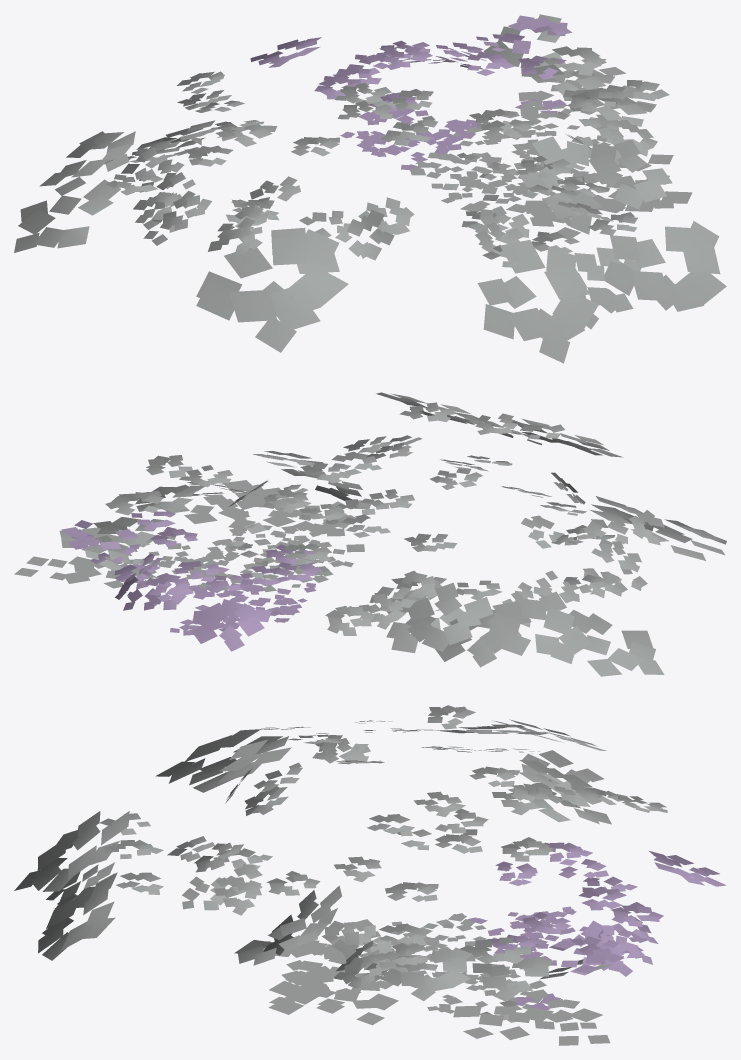
3 renders of one model, top to bottom at view 1: azimuth 30°, elevation 25°; view 2: azimuth 150°, elevation 25°; view 3: azimuth 270°, elevation 25°, orthographic. The views are drawn at different scales.
Visible parts, largest first — view 1: G:\FFXIV-MapTools\exports\f1f2\bg\ffxiv\fst_f1\fld\f1f2\bgpa; view 2: G:\FFXIV-MapTools\exports\f1f2\bg\ffxiv\fst_f1\fld\f1f2\bgpa; view 3: G:\FFXIV-MapTools\exports\f1f2\bg\ffxiv\fst_f1\fld\f1f2\bgpa.
Boxes of the visible parts, x1,y1,x2,y2 form: G:\FFXIV-MapTools\exports\f1f2\bg\ffxiv\fst_f1\fld\f1f2\bgpa: (14, 14, 726, 363); G:\FFXIV-MapTools\exports\f1f2\bg\ffxiv\fst_f1\fld\f1f2\bgpa: (14, 392, 726, 676); G:\FFXIV-MapTools\exports\f1f2\bg\ffxiv\fst_f1\fld\f1f2\bgpa: (14, 705, 726, 1045).
Bounding box in the file's own units: 2232 × 283 × 2130.
